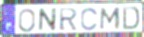C: (80, 7, 99, 32)
D: (122, 6, 141, 31)
M: (99, 7, 122, 31)
N: (38, 7, 59, 33)
O: (18, 8, 36, 33)
R: (58, 8, 79, 33)
